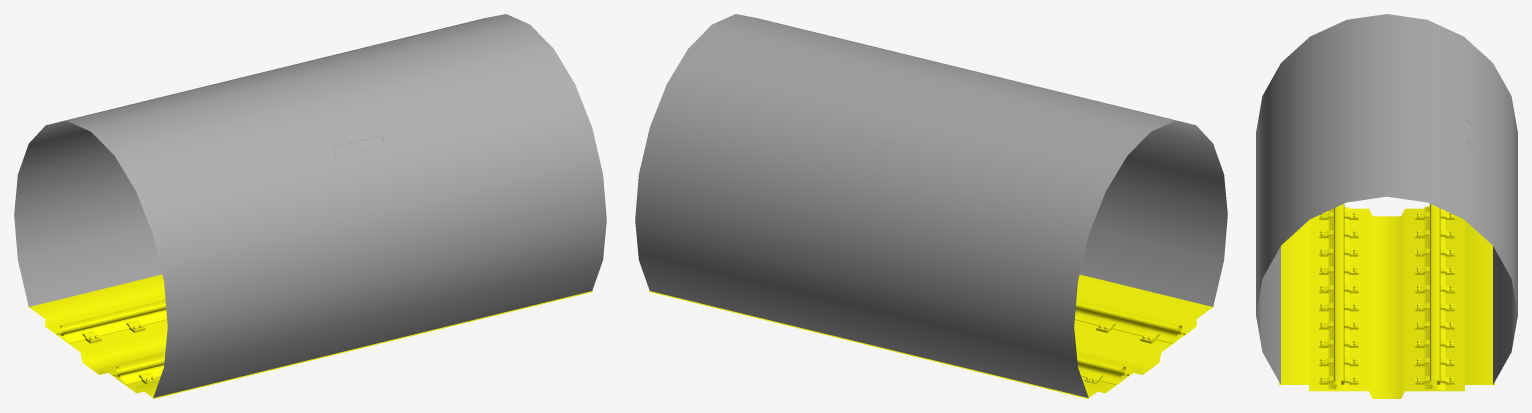
File: TrainTrack_Straight.fbx
The picture shows the model from 3 angles, left to right: view 1: azimuth 30°, elevation 25°; view 2: azimuth 150°, elevation 25°; view 3: azimuth 270°, elevation 25°; orthographic projection. The views are drawn at different scales.
Visible parts, largest first — view 1: TrainTrack_Straight; view 2: TrainTrack_Straight; view 3: TrainTrack_Straight.
Part boxes in pixels (box(x1,y1,x2,y2)): TrainTrack_Straight: box(14, 14, 606, 398); TrainTrack_Straight: box(635, 14, 1227, 398); TrainTrack_Straight: box(1256, 14, 1517, 398).
Bounding box in the file's own units: 4000 × 2065 × 2424.
